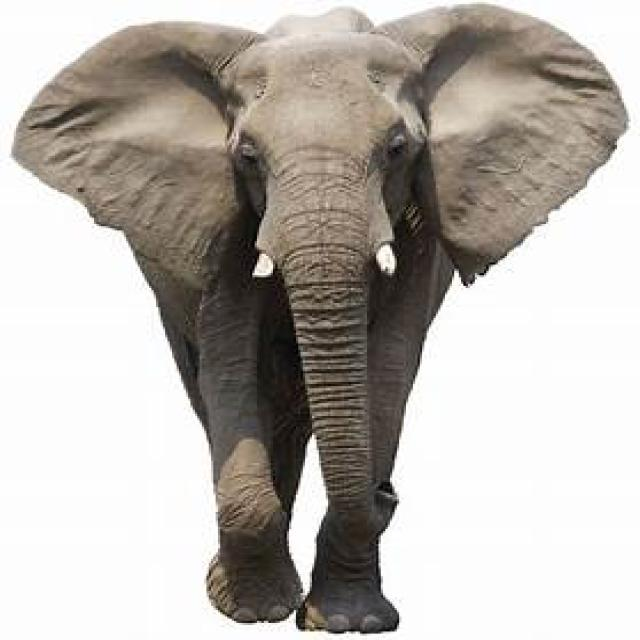elephant: (16, 4, 629, 638)
